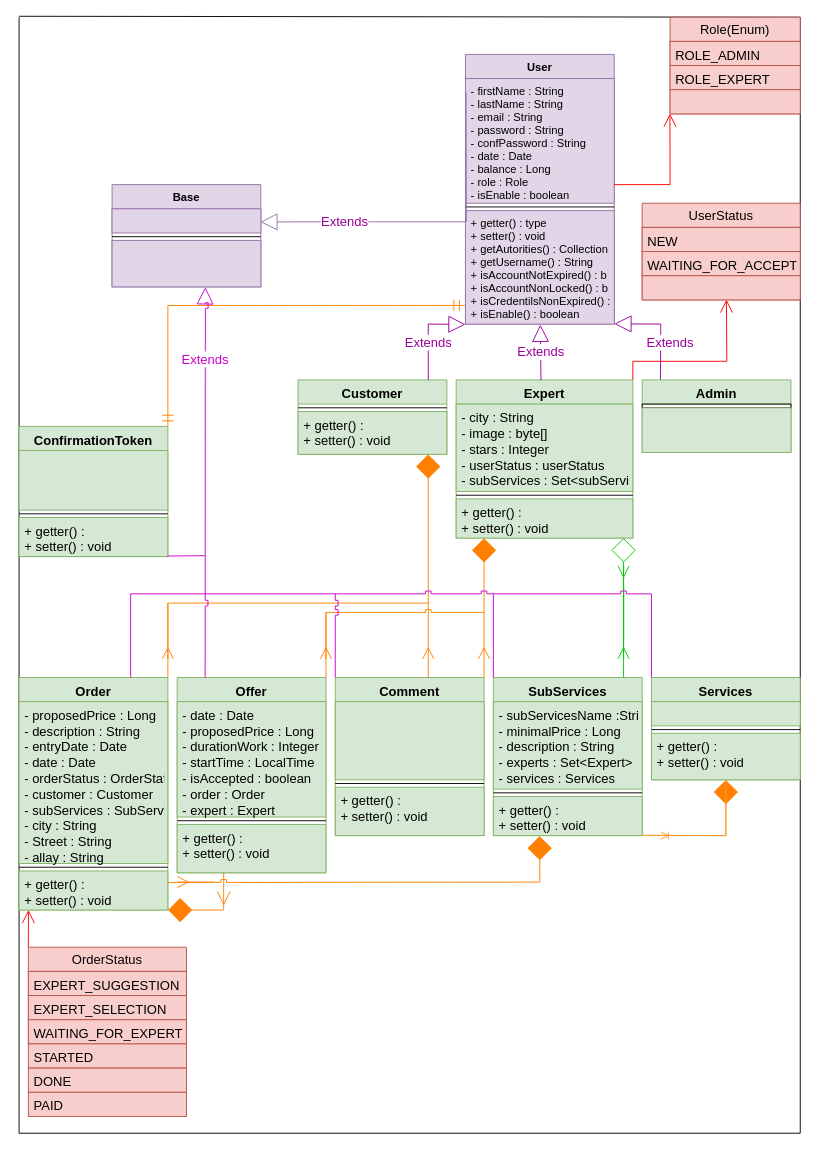
The diagram is 817 pixels wide and 1150 high, and some of its shapes have lost their labels. The centre of each missing label's shape, as x and y in pixels:
"+ equals(Object ): boolean + hashCode(type): int" belongs at point 186,263.
"+ getter : + setter : void" belongs at point 716,429.
"- comment : String - stars : Integer - expert : Expert - customer : Customer" belongs at point 409,740.
"- confirmToken : String - createDate : Date - user : User" belongs at point 93,480.
"- Id : Integer" belongs at point 186,220.
"- services : String" belongs at point 725,713.
"ACCEPTED" belongs at point 720,287.
"ROLE_CUSTOMER" belongs at point 734,101.
